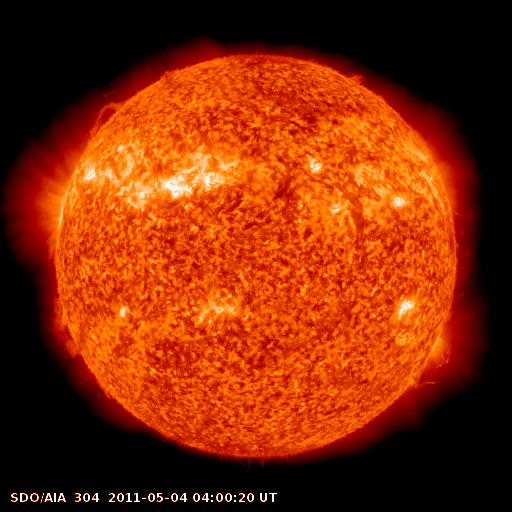prominence: (40, 291, 88, 368), (84, 97, 134, 145), (406, 358, 444, 396), (341, 61, 372, 93)
